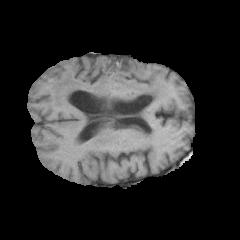glioma: (52, 60, 170, 121)
